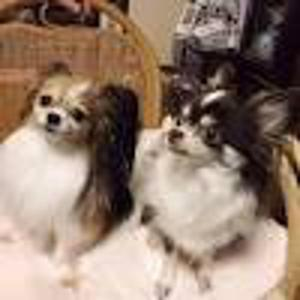yell: (139, 61, 288, 299)
